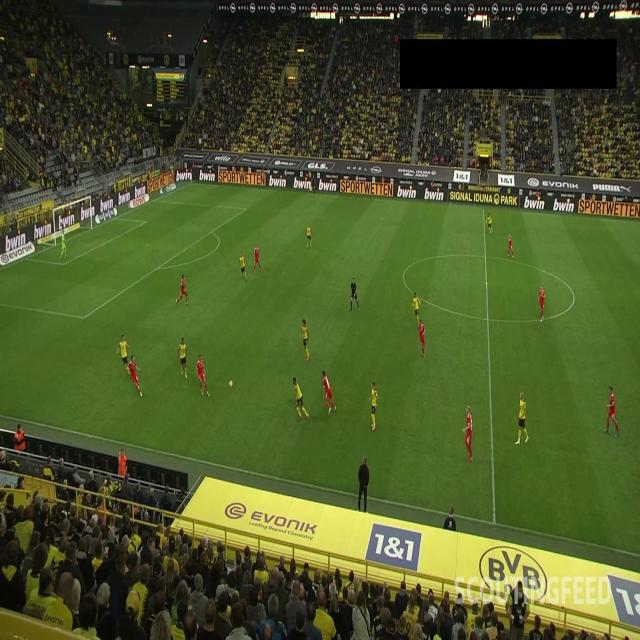ball: (229, 380, 233, 387)
goalkeeper: (59, 230, 67, 261)
player: (604, 386, 620, 437), (292, 377, 310, 421), (515, 392, 529, 445), (127, 354, 143, 397), (322, 370, 336, 416), (116, 333, 132, 372), (196, 354, 210, 397), (464, 405, 473, 462), (369, 382, 378, 431), (178, 336, 188, 378), (301, 318, 310, 361), (176, 274, 188, 306), (417, 319, 426, 358), (538, 285, 546, 322), (412, 292, 421, 323), (253, 244, 262, 273), (239, 250, 247, 282), (506, 233, 515, 260), (306, 222, 312, 249), (486, 212, 493, 234)
referee: (350, 277, 359, 311), (309, 173, 316, 196)
